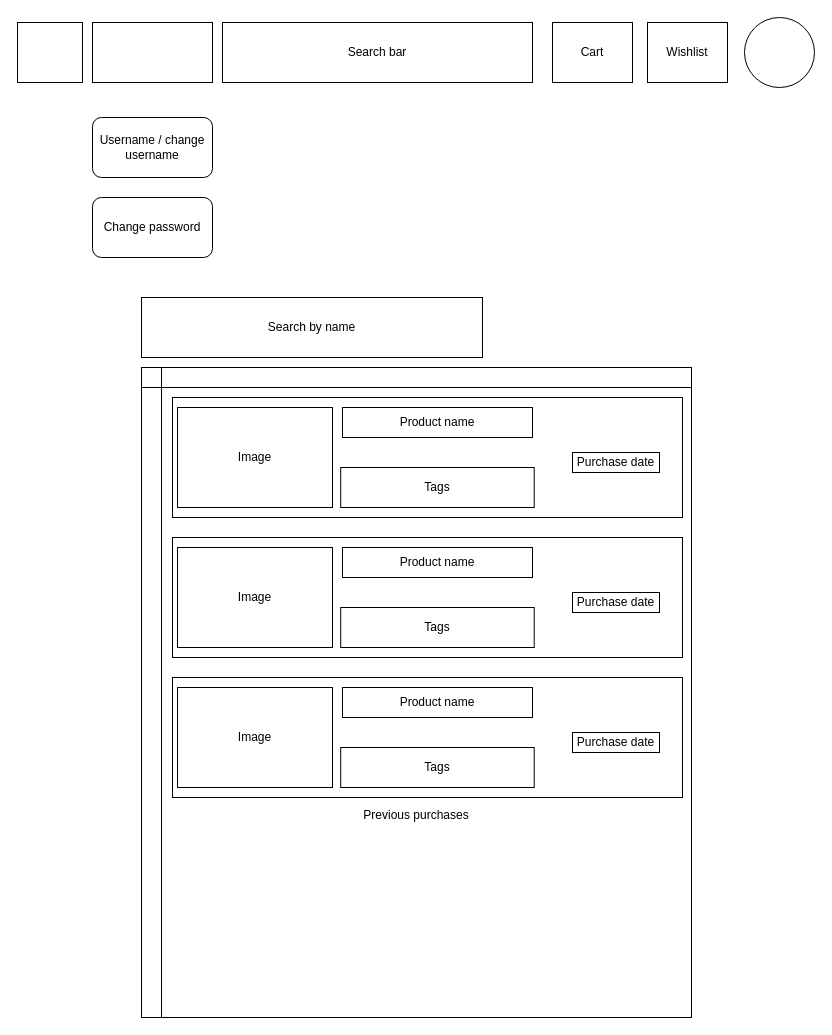
Some shapes in this 832 by 1035 pixel diagram are drawn without their labels. Here are the shapes that lost their labels. From the top down, the centre of each, then its label:
At pixel 49 52: "Home".
At pixel 152 52: "Recommendations".
At pixel 779 52: "User Profile".
